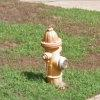Hydrant: (38, 23, 76, 90)
